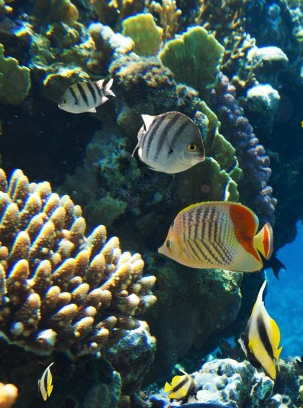fishRound: (157, 201, 271, 273), (131, 111, 204, 176), (236, 280, 282, 383), (57, 80, 115, 115), (162, 373, 200, 407), (35, 359, 58, 403)
